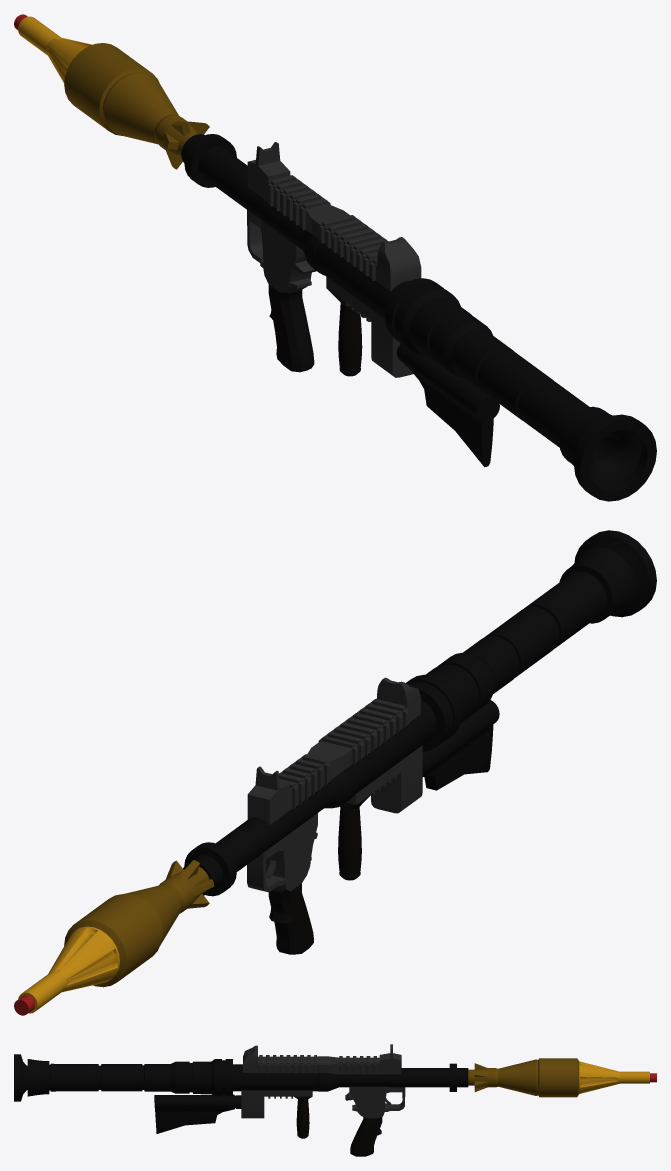
The model's file is RPG Launcher.FBX.
The picture shows the model from 3 angles, top to bottom: view 1: azimuth 30°, elevation 25°; view 2: azimuth 150°, elevation 25°; view 3: azimuth 270°, elevation 25°; orthographic projection. The views are drawn at different scales.
Visible parts, largest first — view 1: Gun Barrel, Grenade; view 2: Gun Barrel, Grenade; view 3: Gun Barrel, Grenade.
Boxes of the visible parts, x1,y1,x2,y2 form: Gun Barrel: (181,134,656,501); Grenade: (14,14,209,169); Gun Barrel: (183,530,656,954); Grenade: (14,860,214,1015); Gun Barrel: (14,1044,468,1156); Grenade: (468,1058,656,1097).
Size of the model in its own units: 0.0832 by 1.12 by 0.2077.
